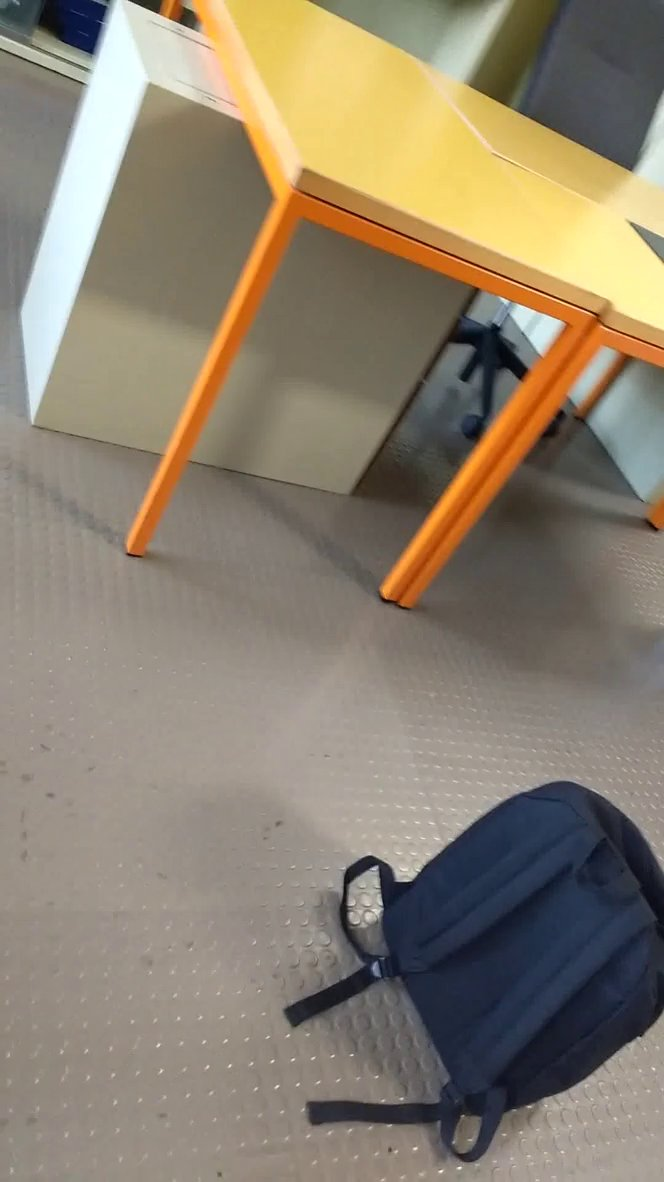bag: (278, 761, 664, 1170)
